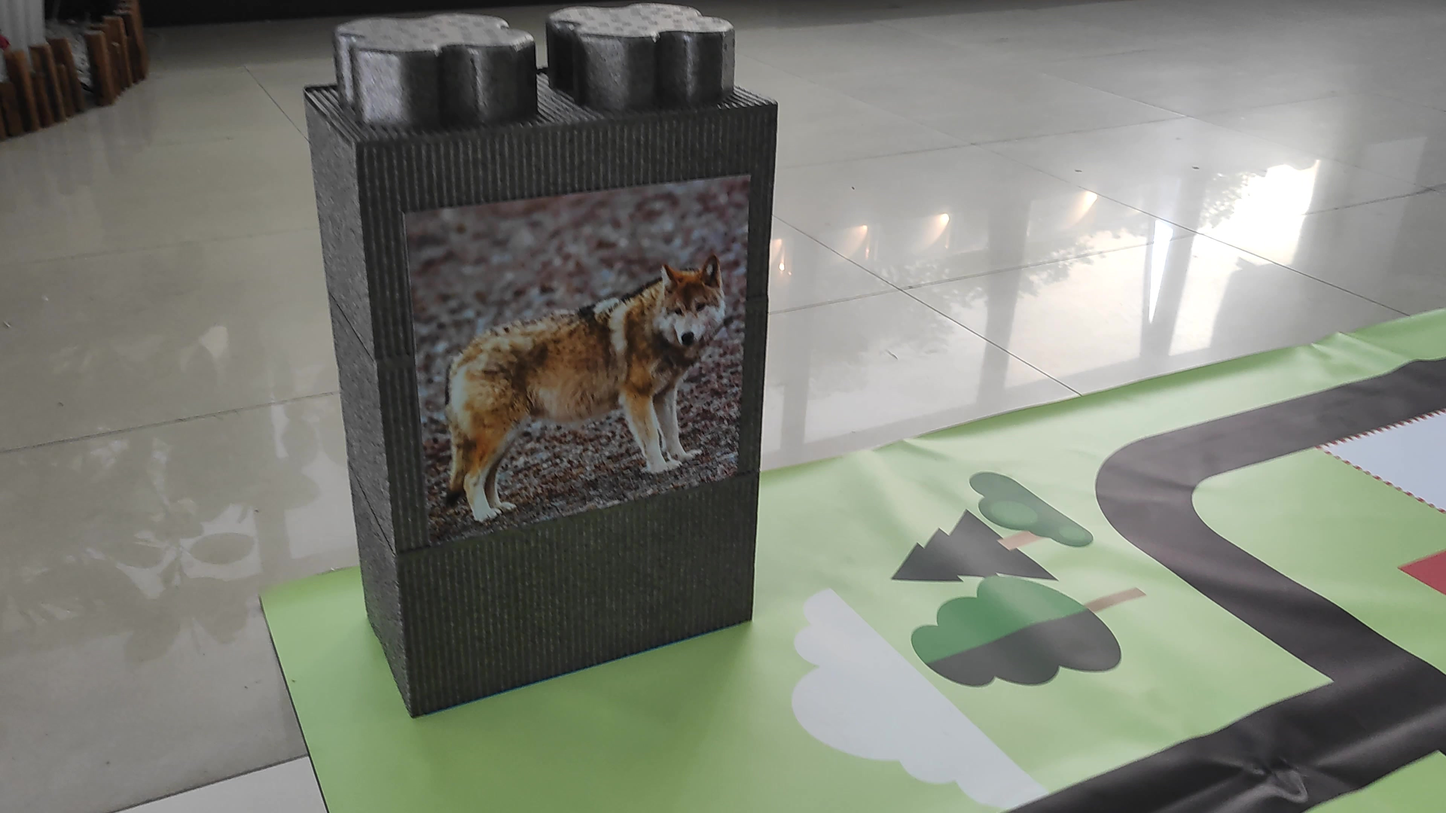wolf: (417, 236, 735, 524)
